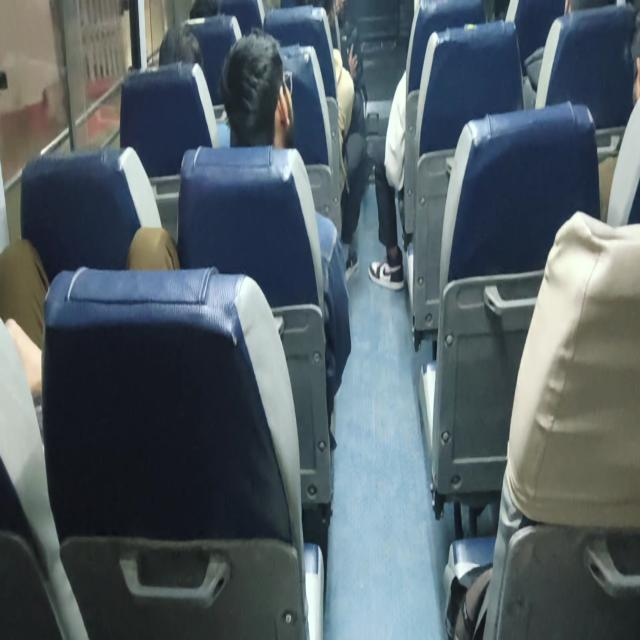person: (226, 31, 291, 162), (608, 28, 640, 128), (151, 27, 208, 71), (279, 0, 340, 27)
